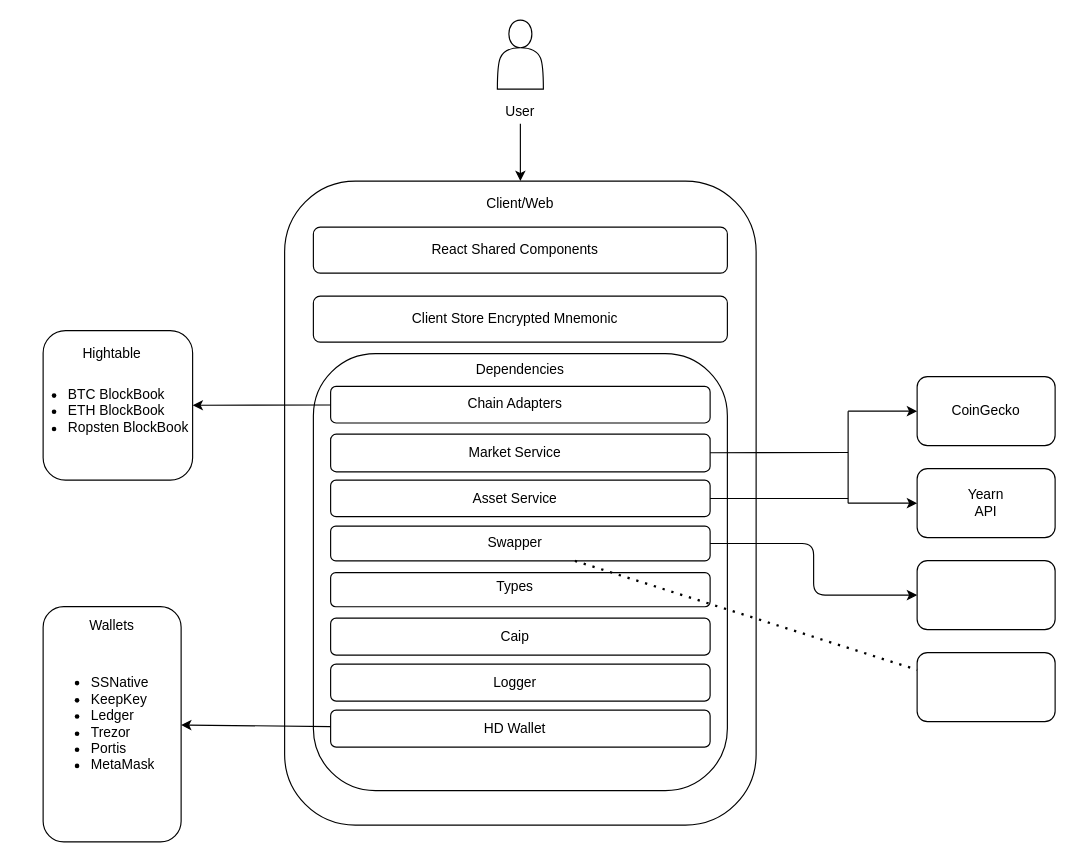
Some shapes in this 1075 by 863 pixel diagram are drawn without their labels. Each missing label, with the centre of its shape:
"0x API" goes at [985,594].
"Thorchain" goes at [985,686].
